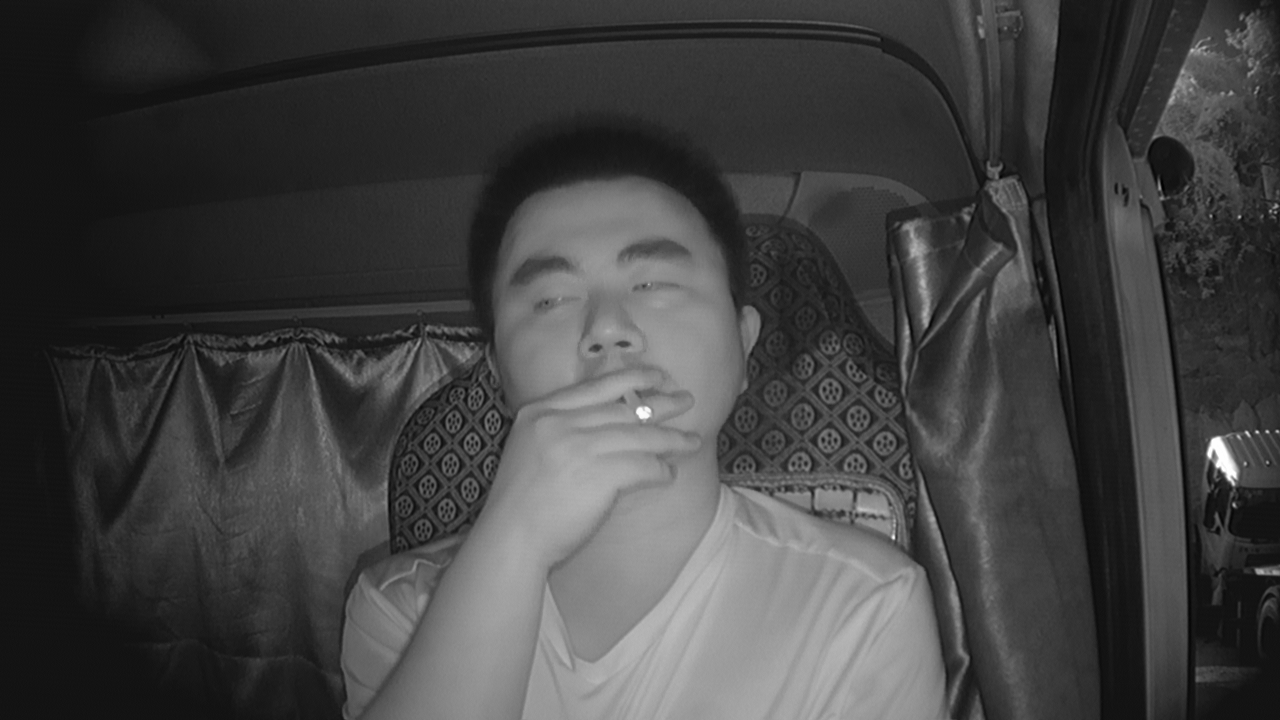hand: (557, 366, 697, 509)
